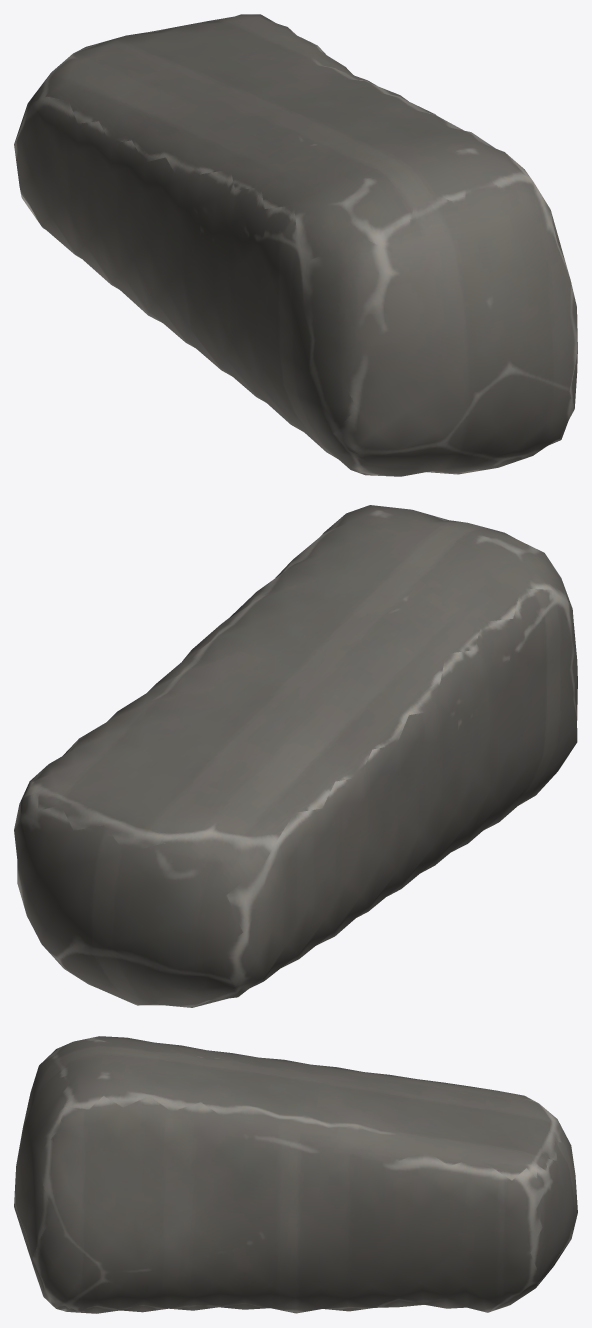
File: SM_rock_small_06.glb
3 renders of one model, top to bottom at view 1: azimuth 30°, elevation 25°; view 2: azimuth 150°, elevation 25°; view 3: azimuth 270°, elevation 25°, orthographic. The views are drawn at different scales.
Visible parts, largest first — view 1: SM_rock_small_06; view 2: SM_rock_small_06; view 3: SM_rock_small_06.
Part boxes in pixels (left/top/right/bottom): SM_rock_small_06: left=14, top=14, right=577, bottom=476; SM_rock_small_06: left=14, top=505, right=577, bottom=1007; SM_rock_small_06: left=14, top=1036, right=577, bottom=1313.
Size of the model in its own units: 0.683 by 0.7101 by 1.62.
1 material, 1 textured.
